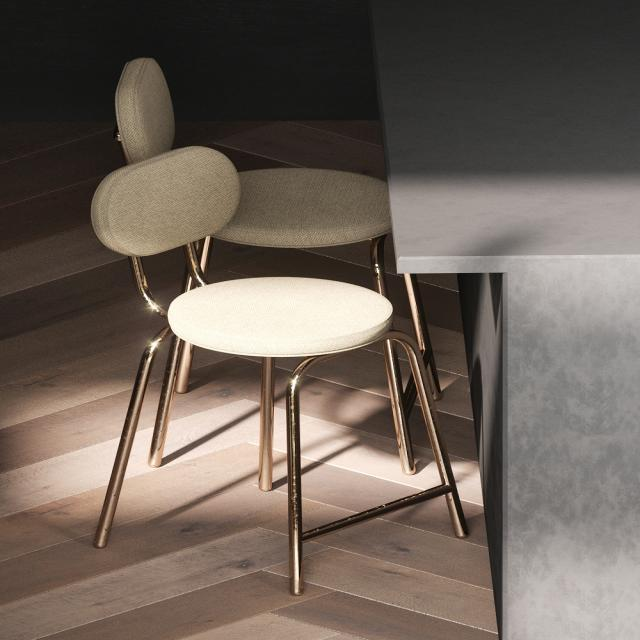chair: (85, 141, 470, 597), (110, 54, 450, 402)
